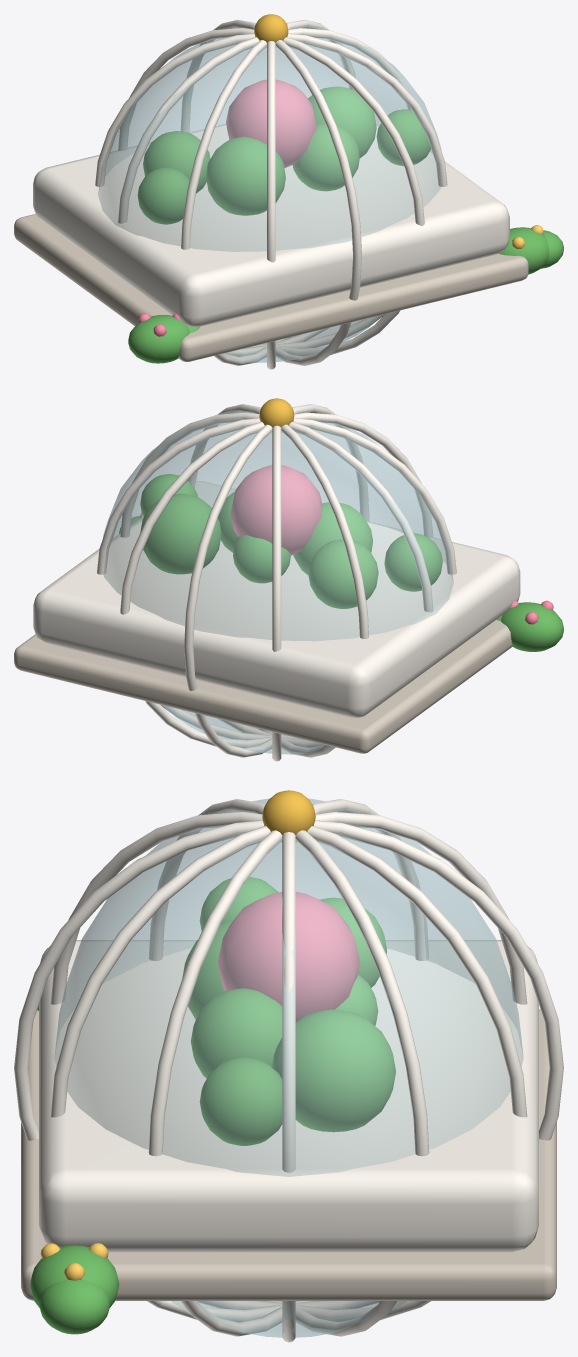
3 views of the same model, one above another, from view 1: azimuth 30°, elevation 25°; view 2: azimuth 150°, elevation 25°; view 3: azimuth 270°, elevation 25° (orthographic). The views are drawn at different scales.
Visible parts, largest first — view 1: Cube; view 2: Cube; view 3: Cube.
Part boxes in pixels (<box>): Cube: <box>14,14,563,369</box>; Cube: <box>14,398,563,761</box>; Cube: <box>14,790,563,1342</box>.
Bounding box in the file's own units: 0.864 × 0.648 × 0.616.
